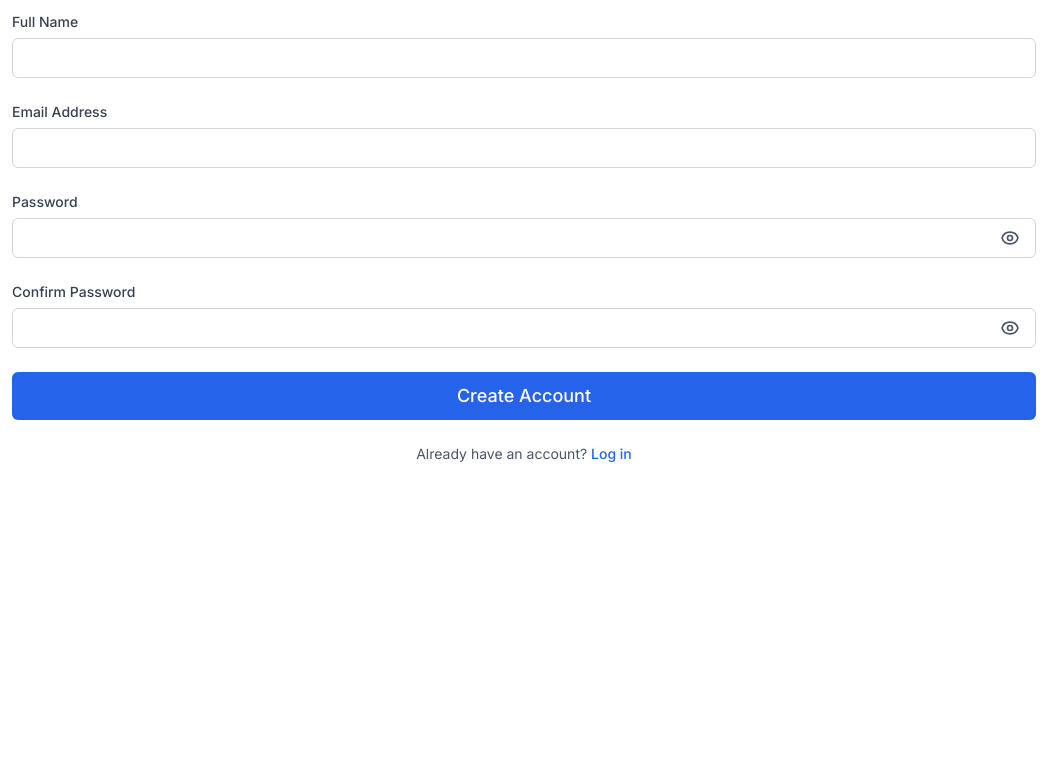
RegistrationForm - Integration Tests (Fix Form Submission) › 6.2: Registration form submission flow › should handle API errors and display error message
Type "John Doe" into the field labelled "Full Name". click: {"x": 524, "y": 58}
box: x1=12 y1=38 x2=1036 y2=78
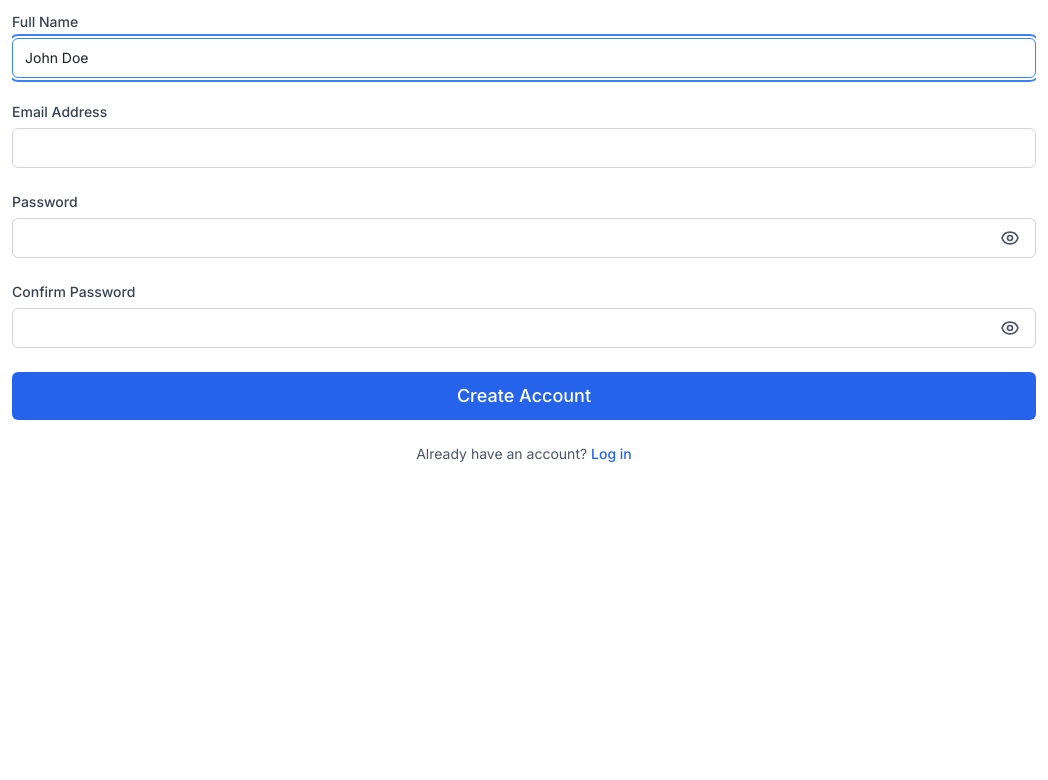
Type "existing@example.com" into the field labelled "Email Address". click: {"x": 524, "y": 148}
box: x1=12 y1=128 x2=1036 y2=168
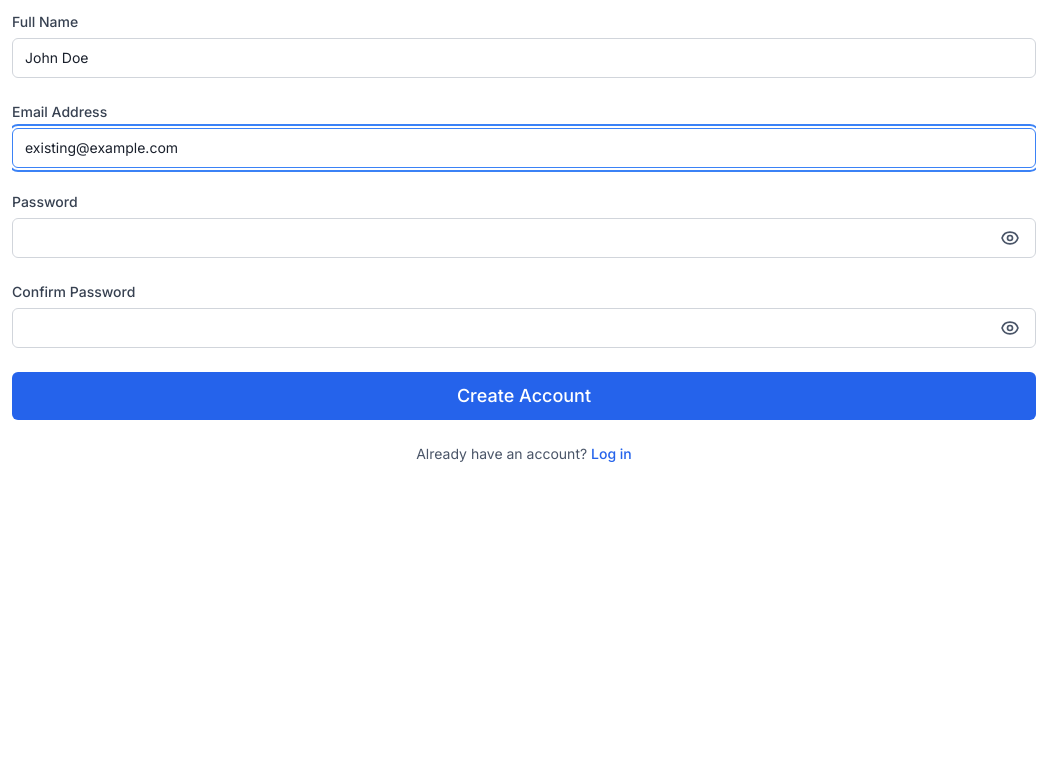
Type "SecurePass123!" into the password field labelled "Password". click: {"x": 524, "y": 238}
box: x1=12 y1=218 x2=1036 y2=258
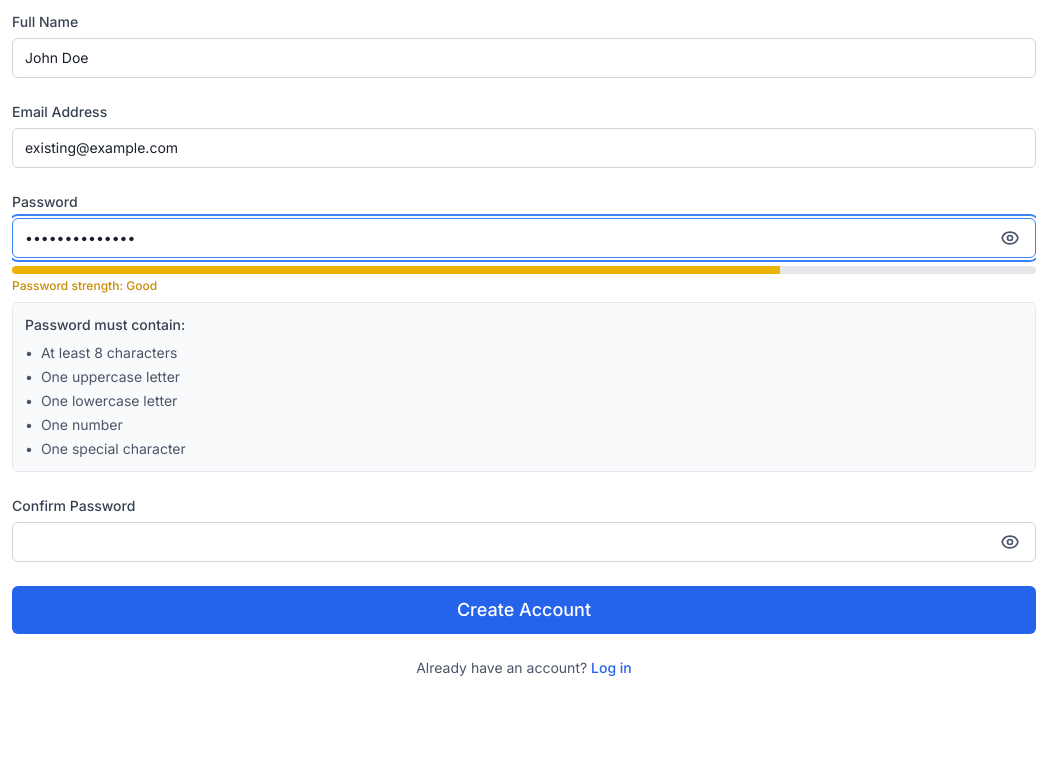
Type "SecurePass123!" into the password field labelled "Confirm Password". click: {"x": 524, "y": 542}
box: x1=12 y1=522 x2=1036 y2=562
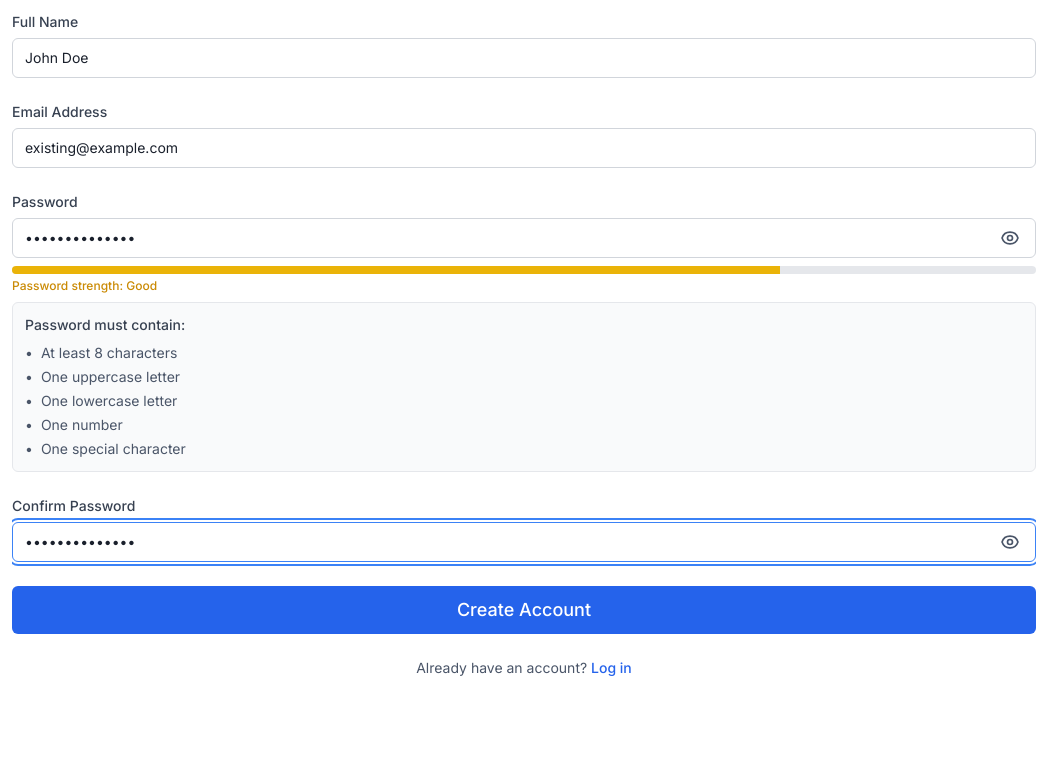
Click the button "Create Account". click: {"x": 524, "y": 610}
box: x1=12 y1=586 x2=1036 y2=634
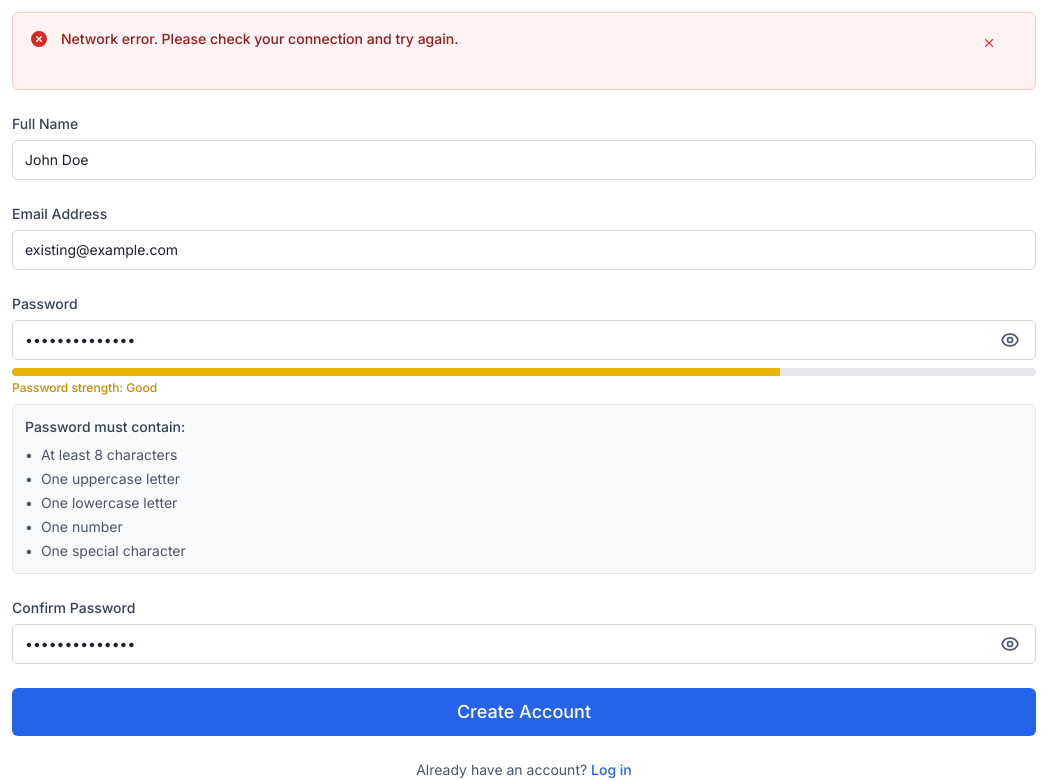
Expected: the button "Create Account" is enabled, x1=12 y1=688 x2=1036 y2=736
Expected: the message "Network error. Please check your connection and try again." is shown, x1=12 y1=12 x2=1036 y2=90
